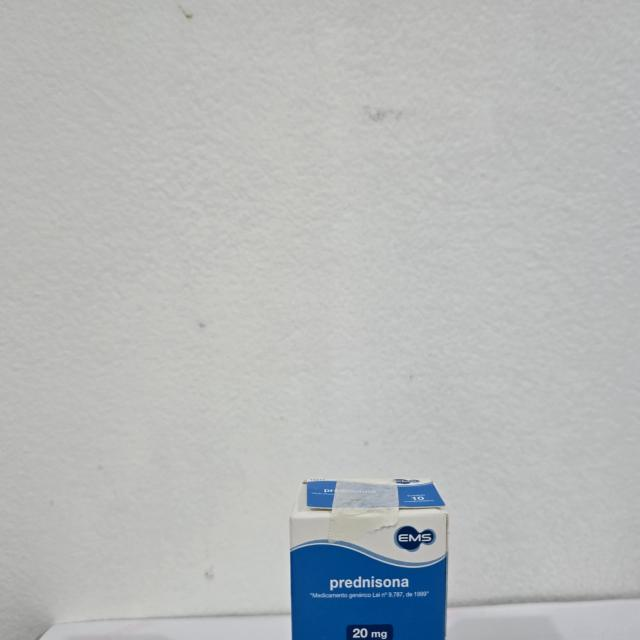prednisona: (287, 474, 451, 640)
